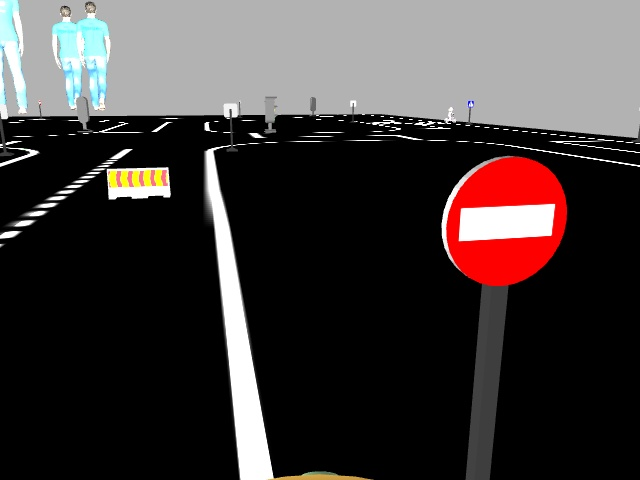ClosedRoadStand: (107, 170, 169, 196)
NoEntry: (445, 155, 570, 279)
